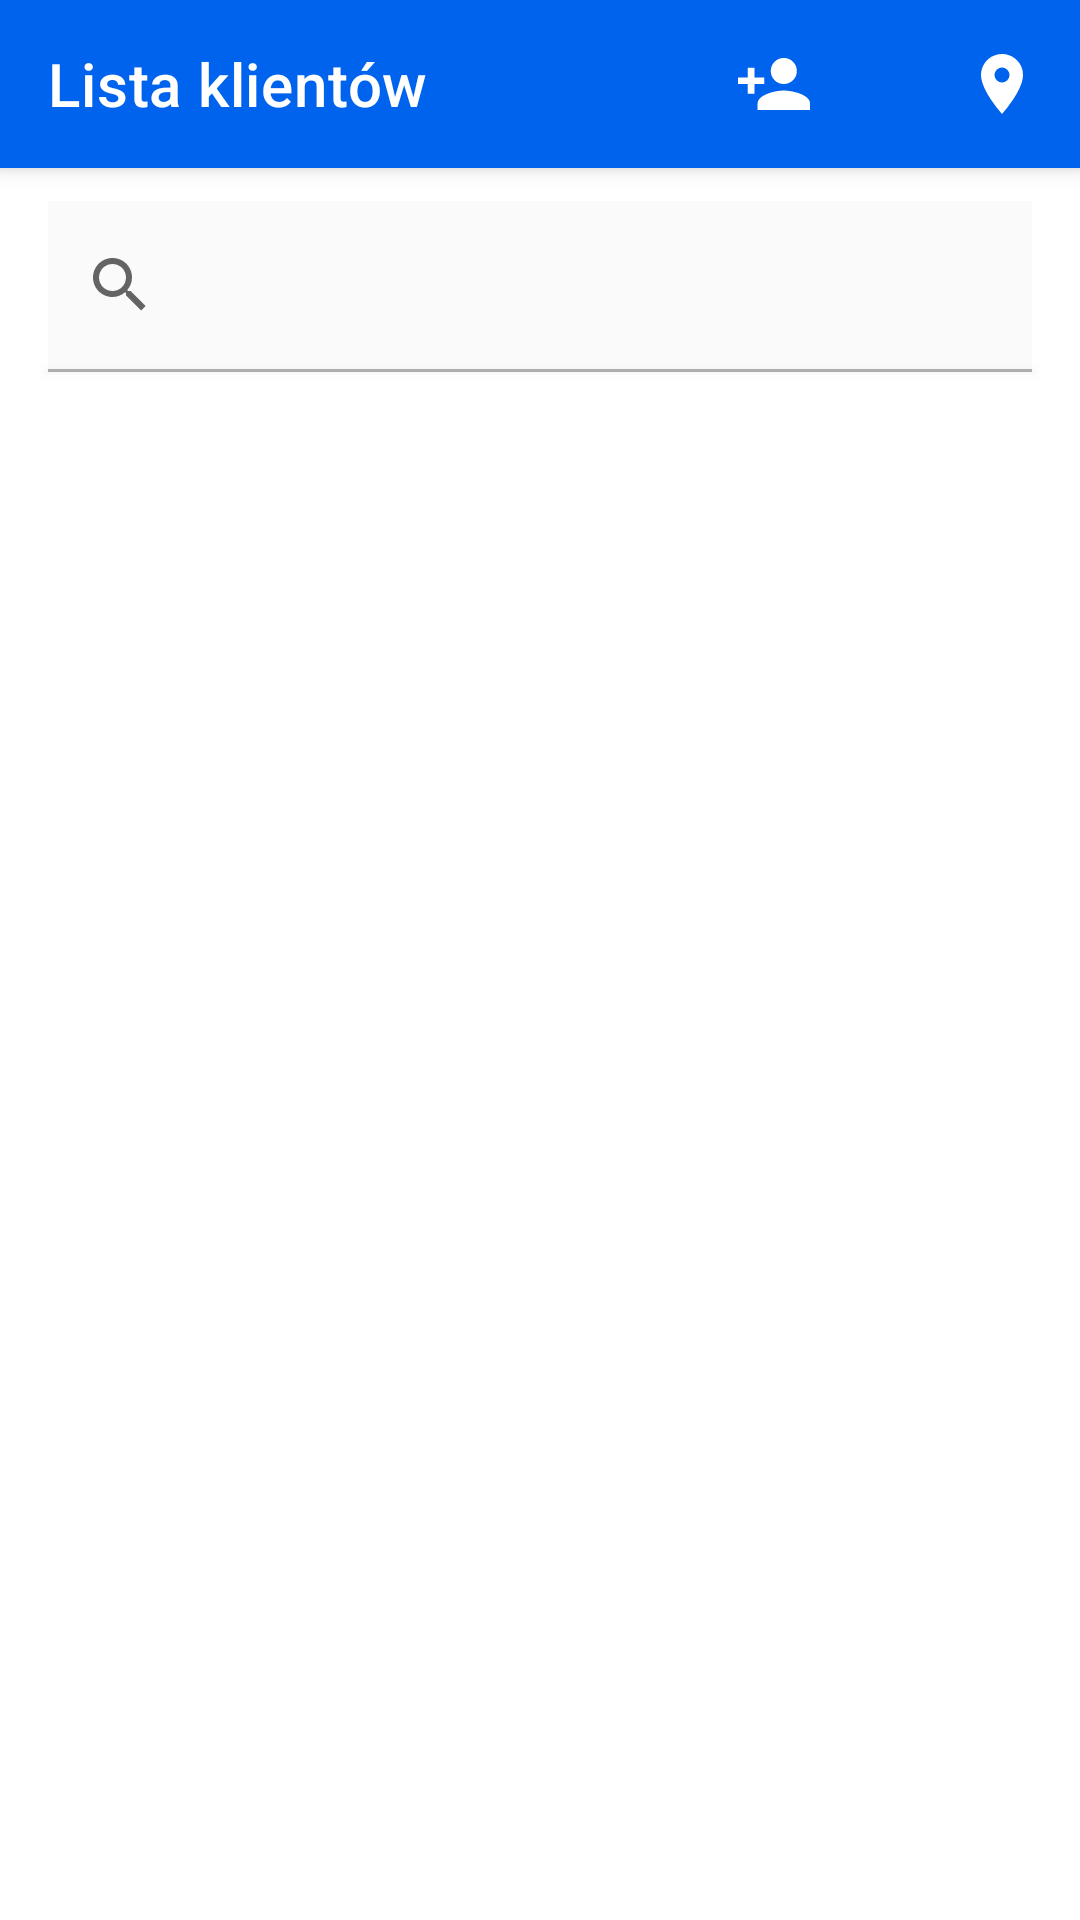

Screen size 1080×1920. Icon name, then its box in pixels as Rect(x1, y1, x2, y2):
maps place: Rect(981, 54, 1023, 114)
person add: Rect(738, 58, 810, 110)
